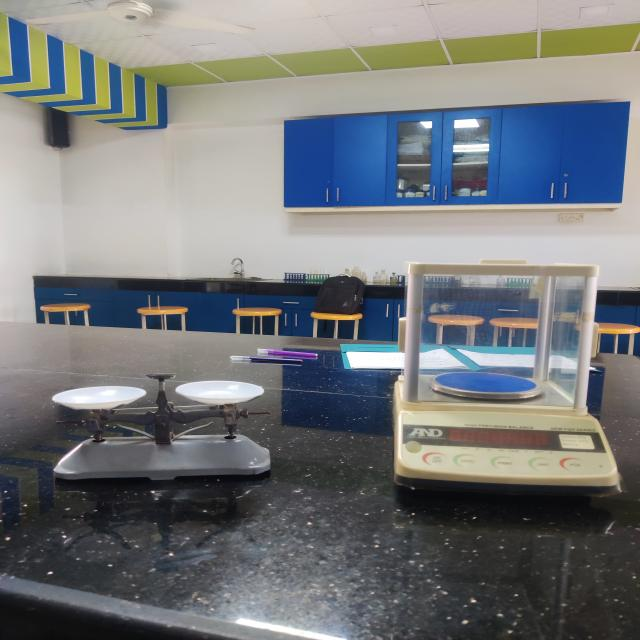Mechanical_Balance_Scale: (24, 351, 312, 532)
Precision_Weight_Scale: (359, 238, 640, 554)
